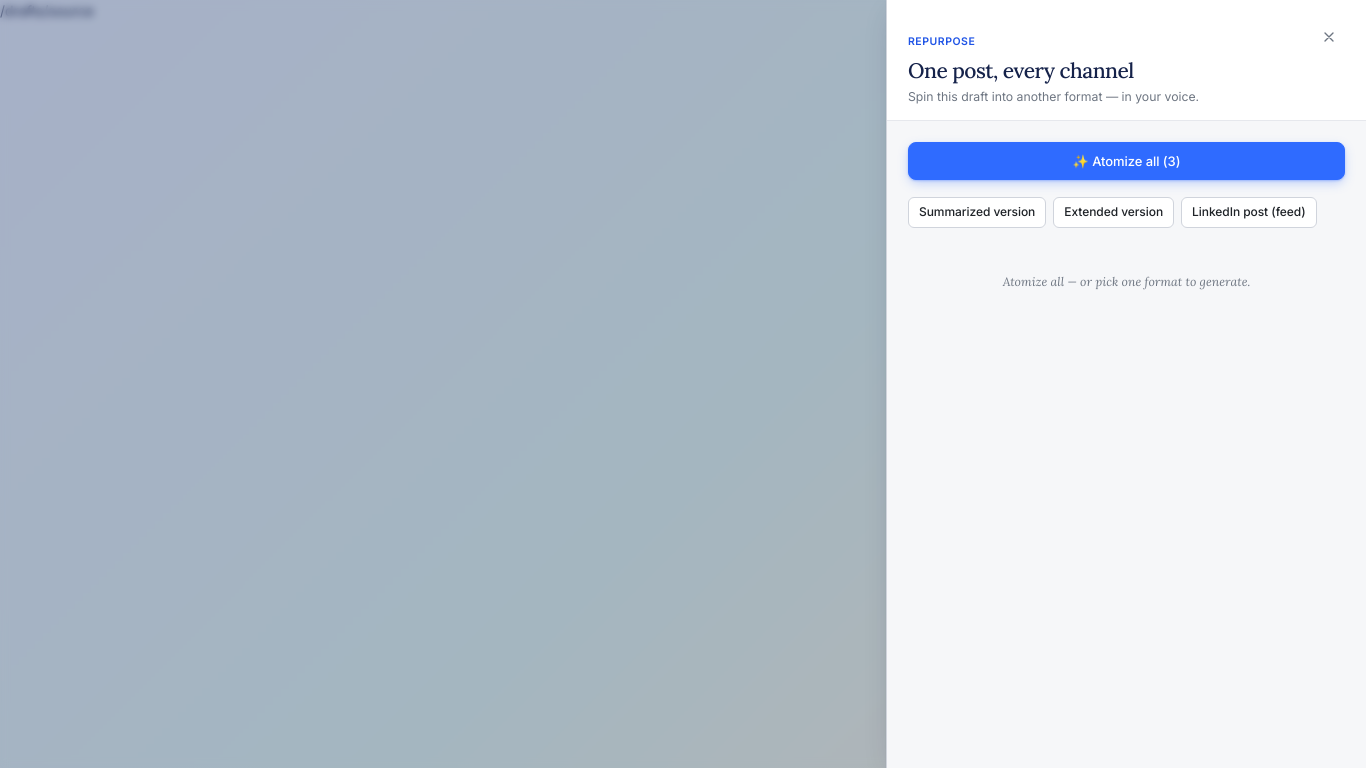
Test case: RepurposePanel length variations › saves the preview and navigates to the new draft
Click the button "Summarized version" at (977, 212), box x1=908 y1=197 x2=1046 y2=228
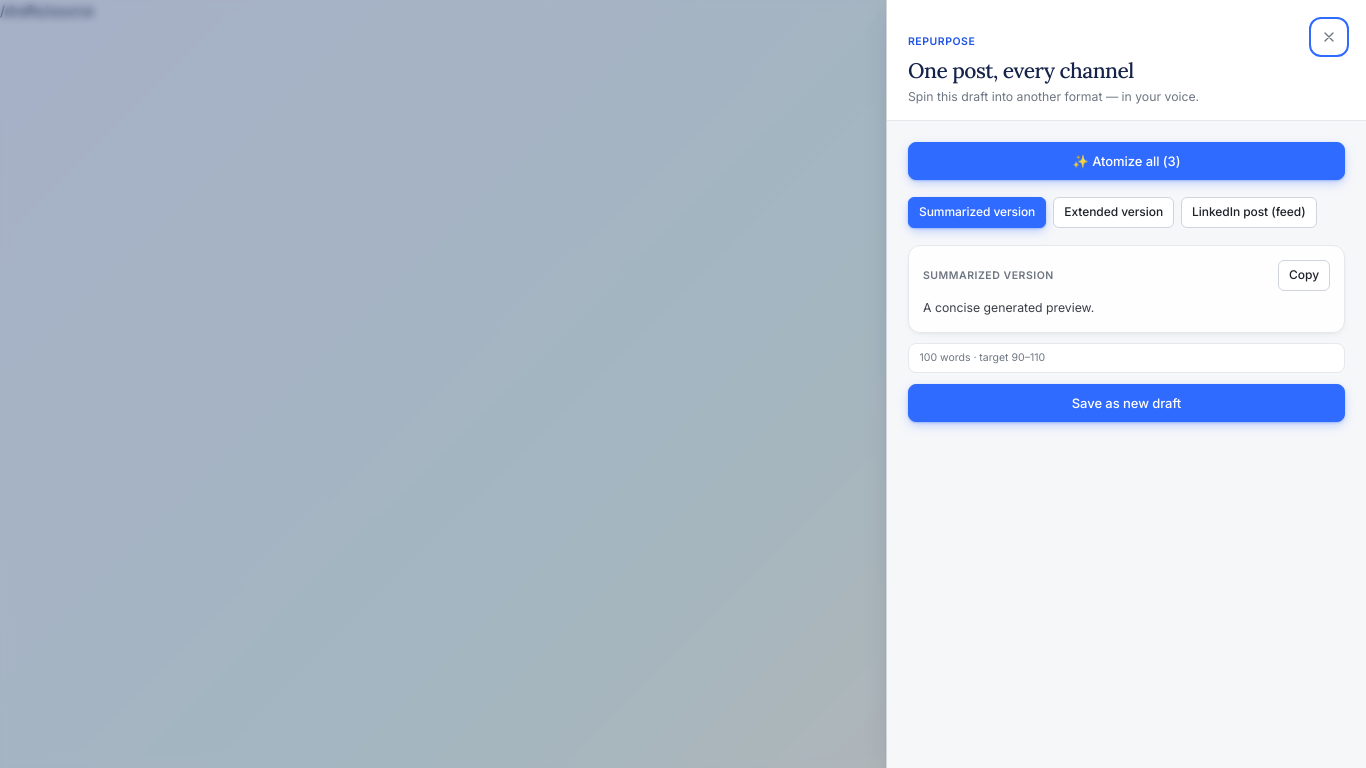
Click the button "Save as new draft" at (1126, 403), box x1=908 y1=384 x2=1345 y2=422
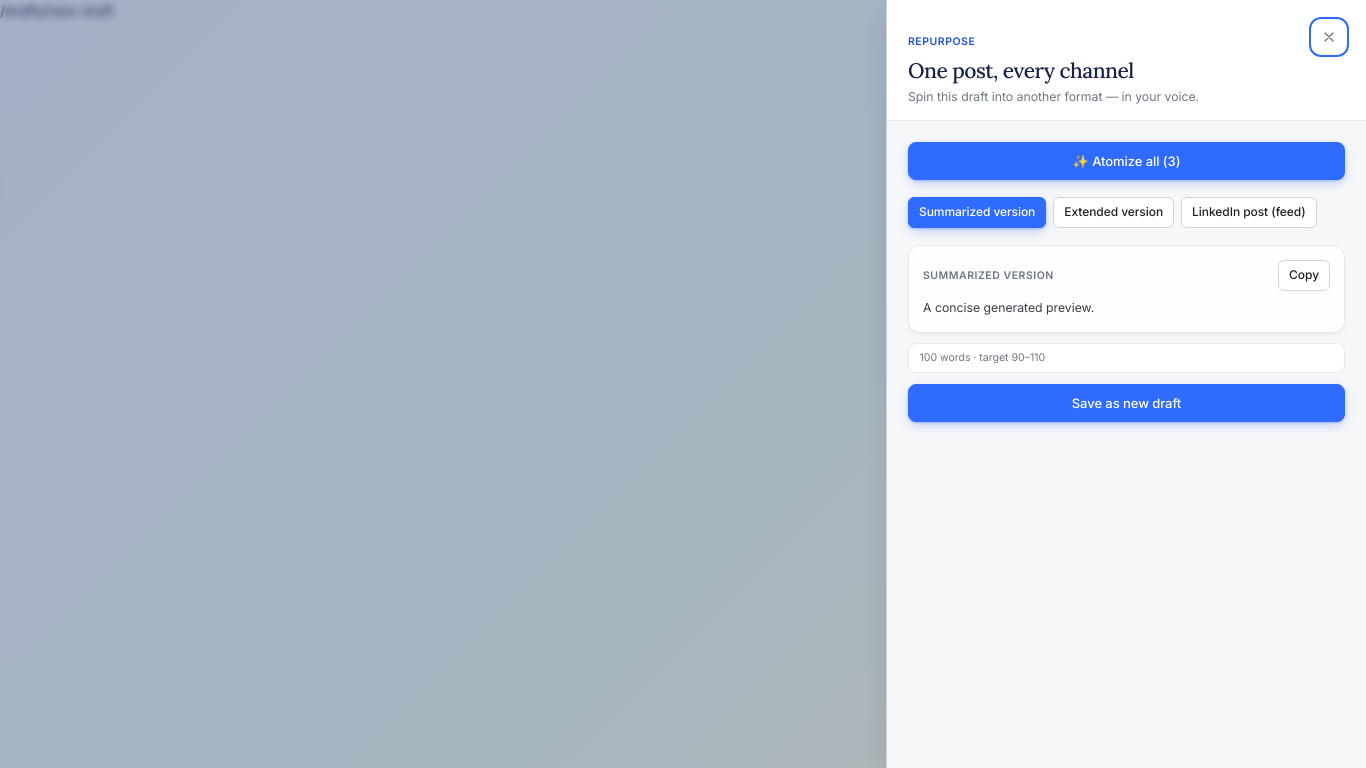
expect the text with test id "location" reads "/drafts/new-draft": met, box x1=0 y1=2 x2=113 y2=19
